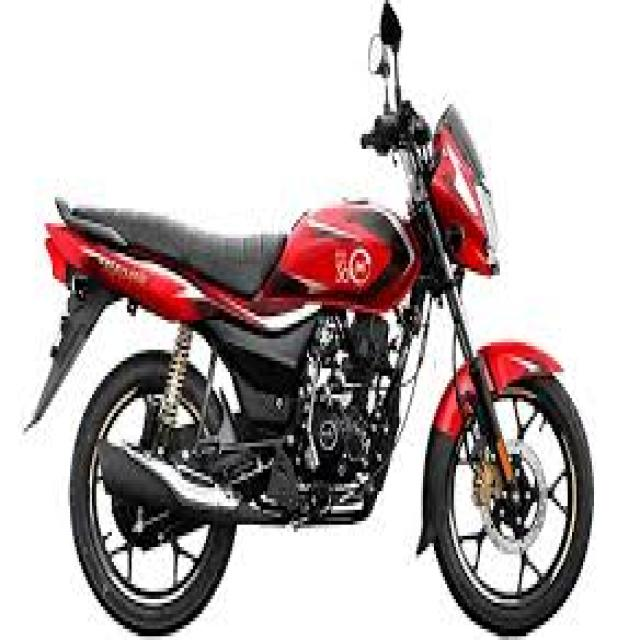bodaboda: (18, 0, 631, 633)
